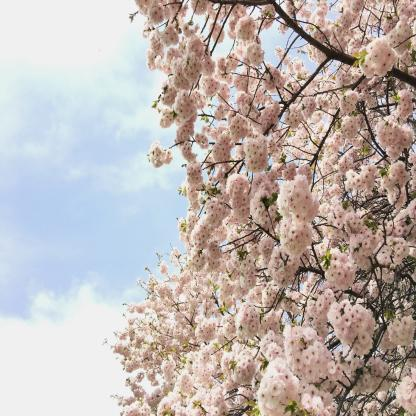YaeSakura: (107, 0, 416, 414)
